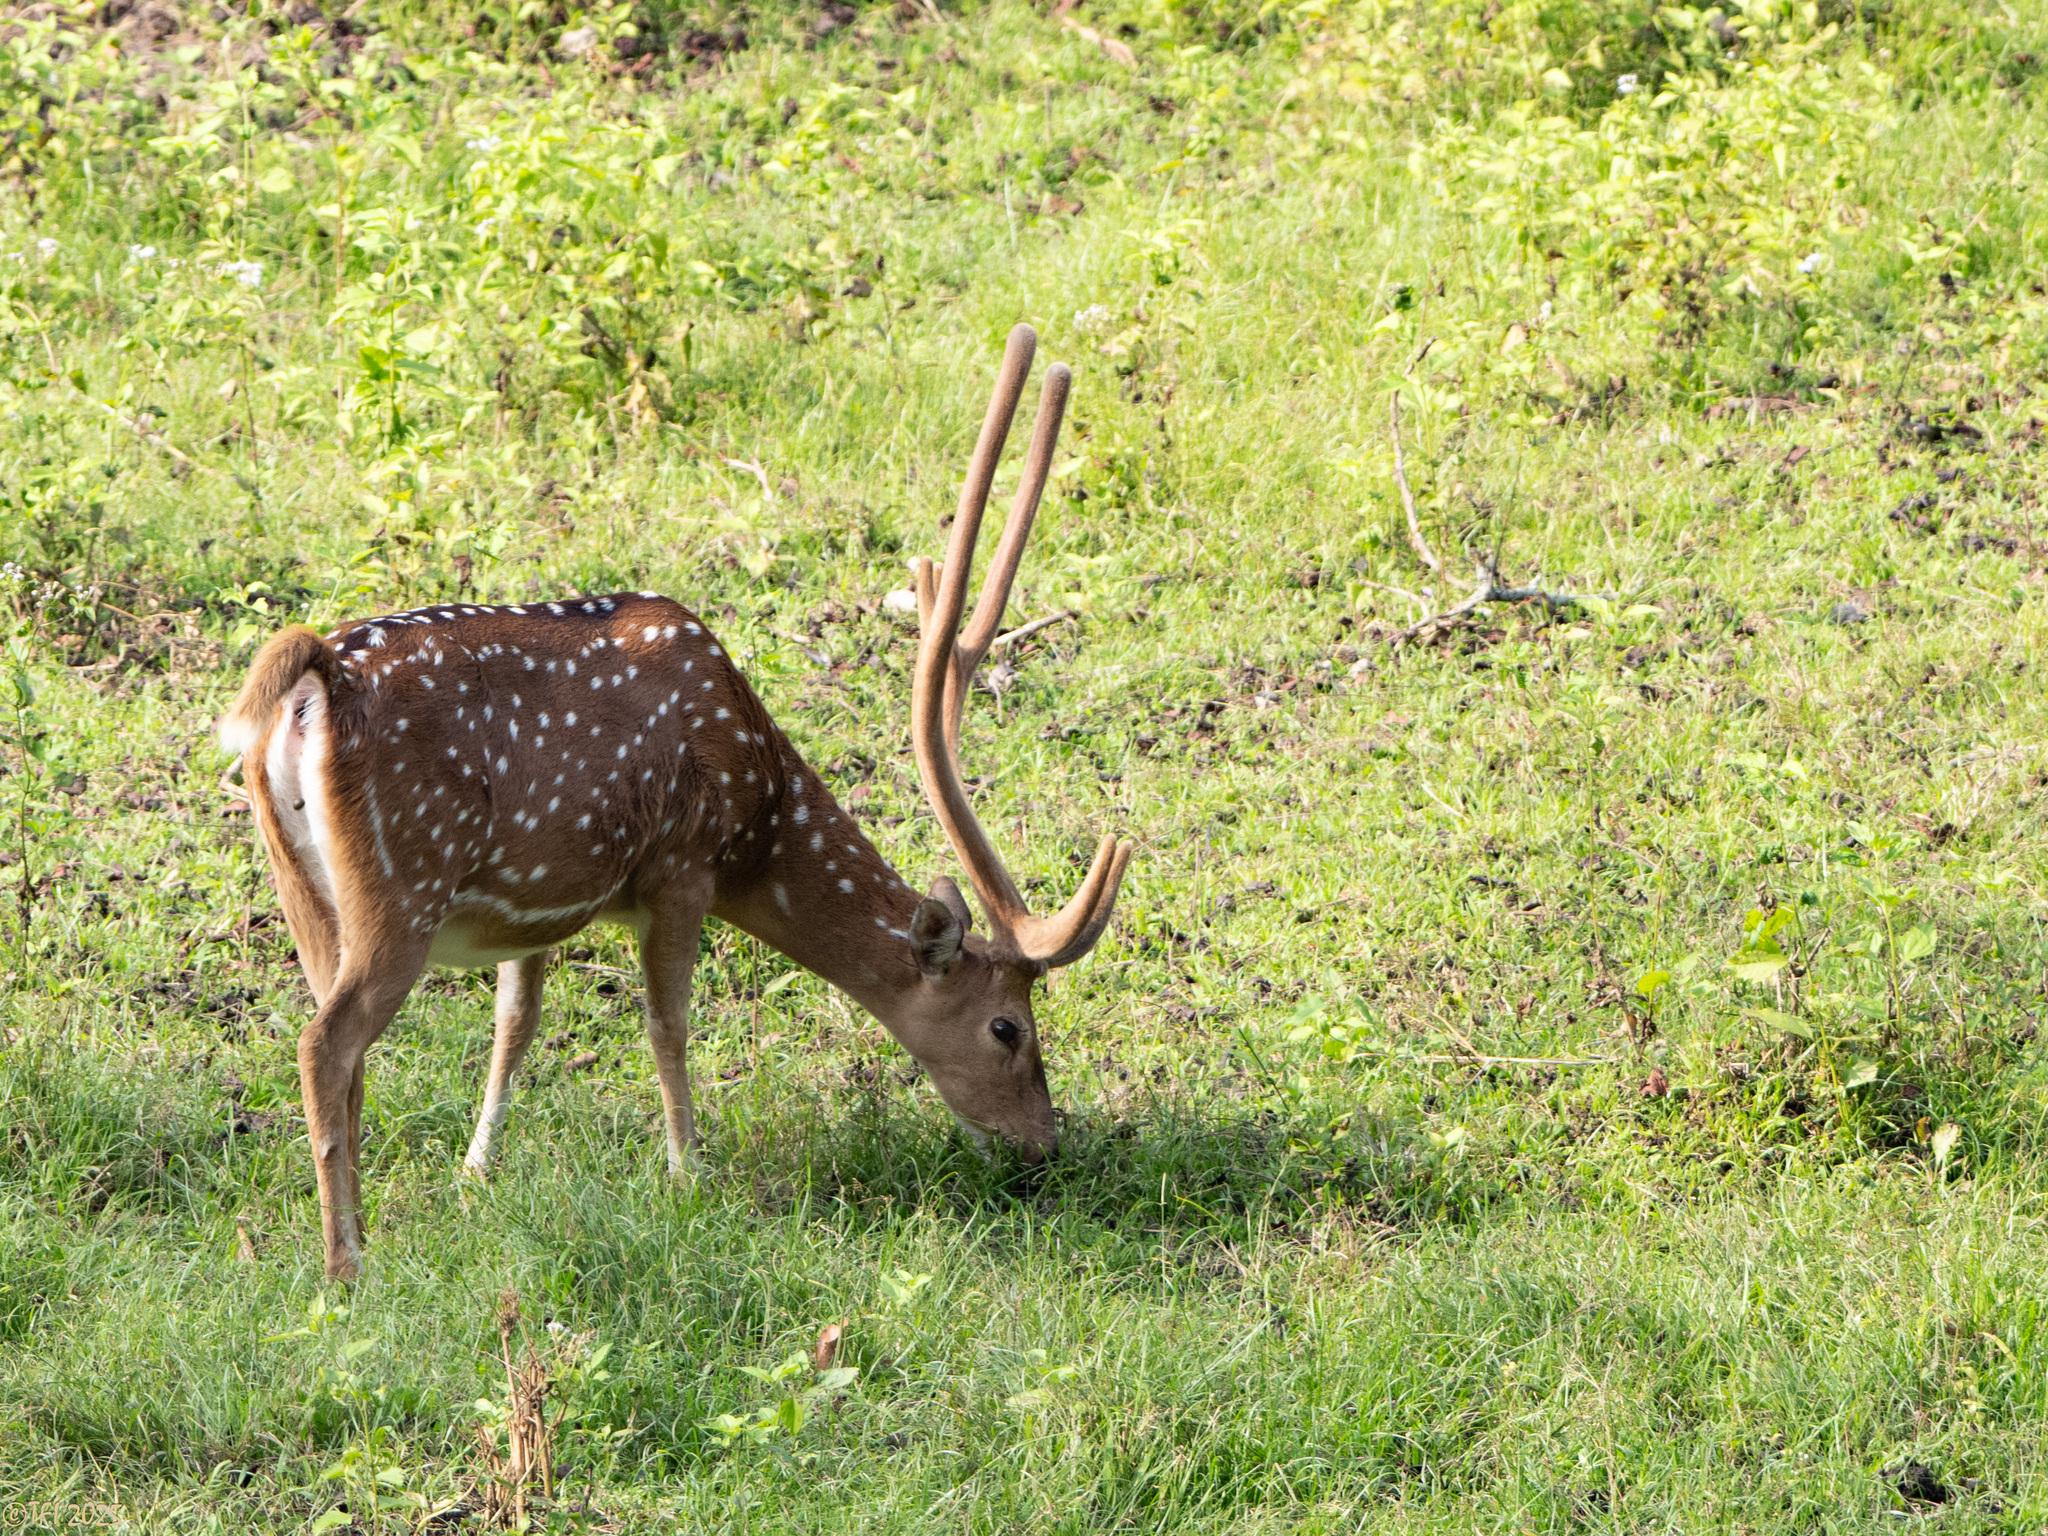Deer: (219, 324, 1130, 1278)
